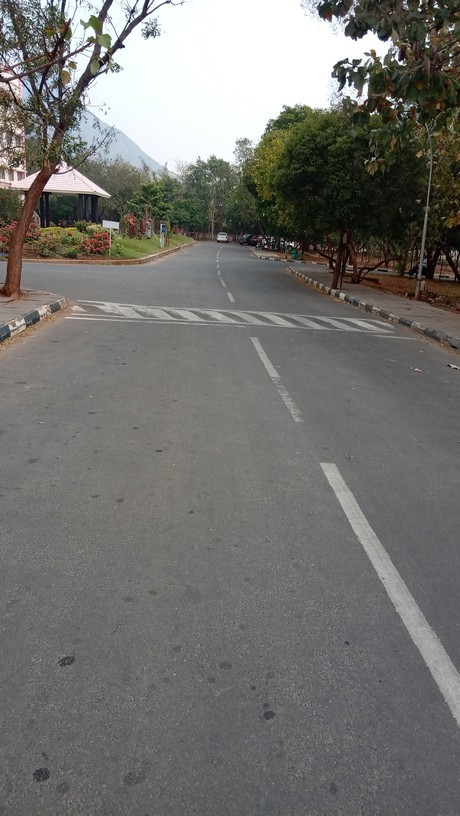bump: (66, 298, 406, 335)
